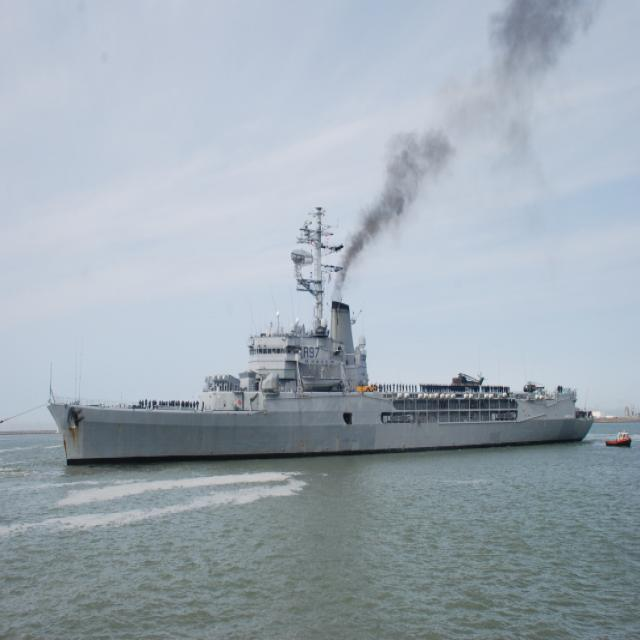Portanaves: (45, 200, 601, 473)
